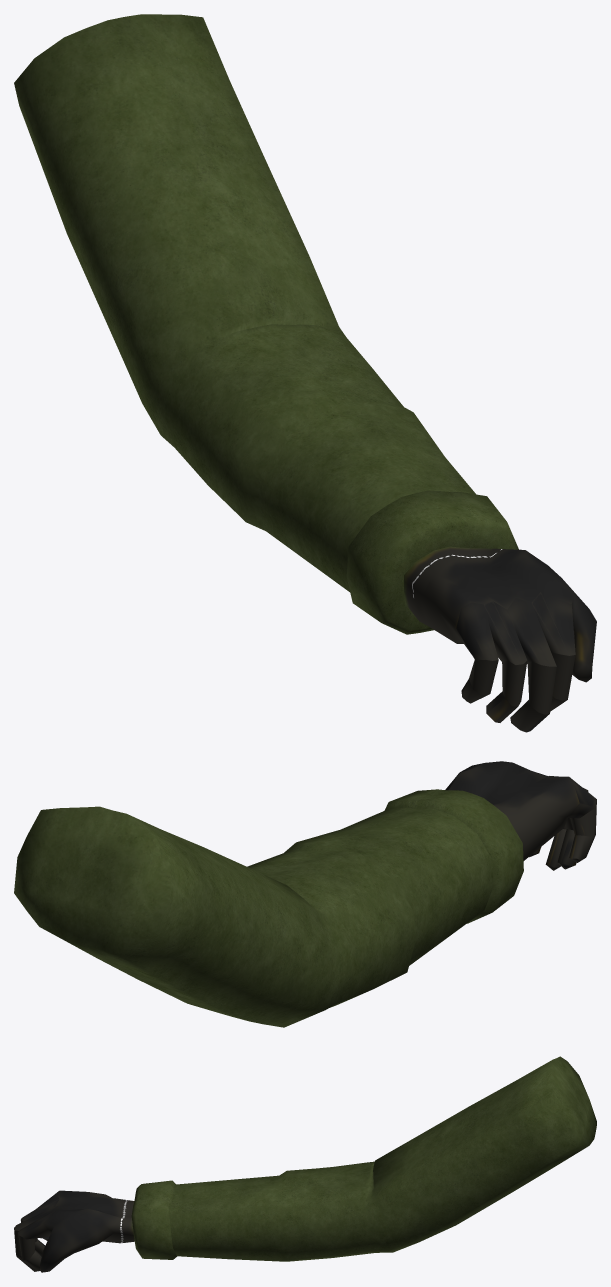
File: SM_Arm_Low.FBX
3 views of the same model, one above another, from view 1: azimuth 30°, elevation 25°; view 2: azimuth 150°, elevation 25°; view 3: azimuth 270°, elevation 25° (orthographic). The views are drawn at different scales.
Parts seen in each view (by area): view 1: SM_Arm_Low; view 2: SM_Arm_Low; view 3: SM_Arm_Low.
Part boxes in pixels (<box>): SM_Arm_Low: <box>14,14,596,732</box>; SM_Arm_Low: <box>14,761,596,1027</box>; SM_Arm_Low: <box>14,1056,596,1272</box>.
Size of the model in its own units: 10.26 by 18.79 by 45.29.
